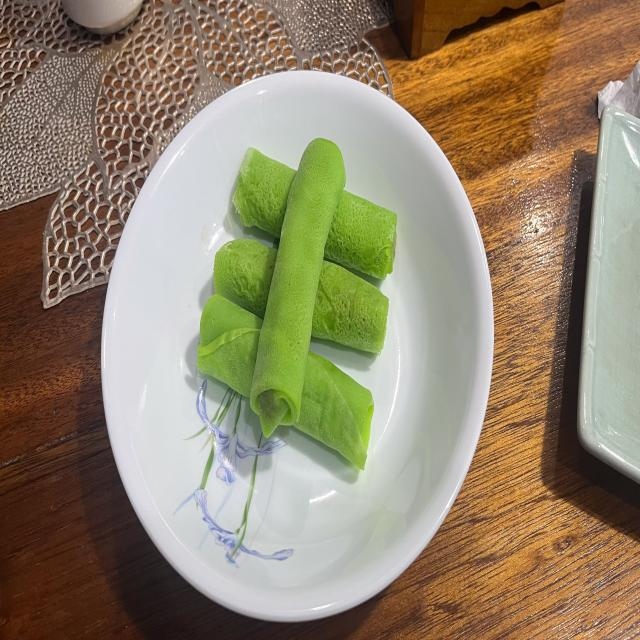Kuih-Ketayap: (250, 138, 345, 436), (295, 351, 374, 469), (311, 260, 389, 353), (198, 293, 261, 396), (324, 191, 396, 280), (232, 147, 296, 238), (214, 238, 278, 318)
